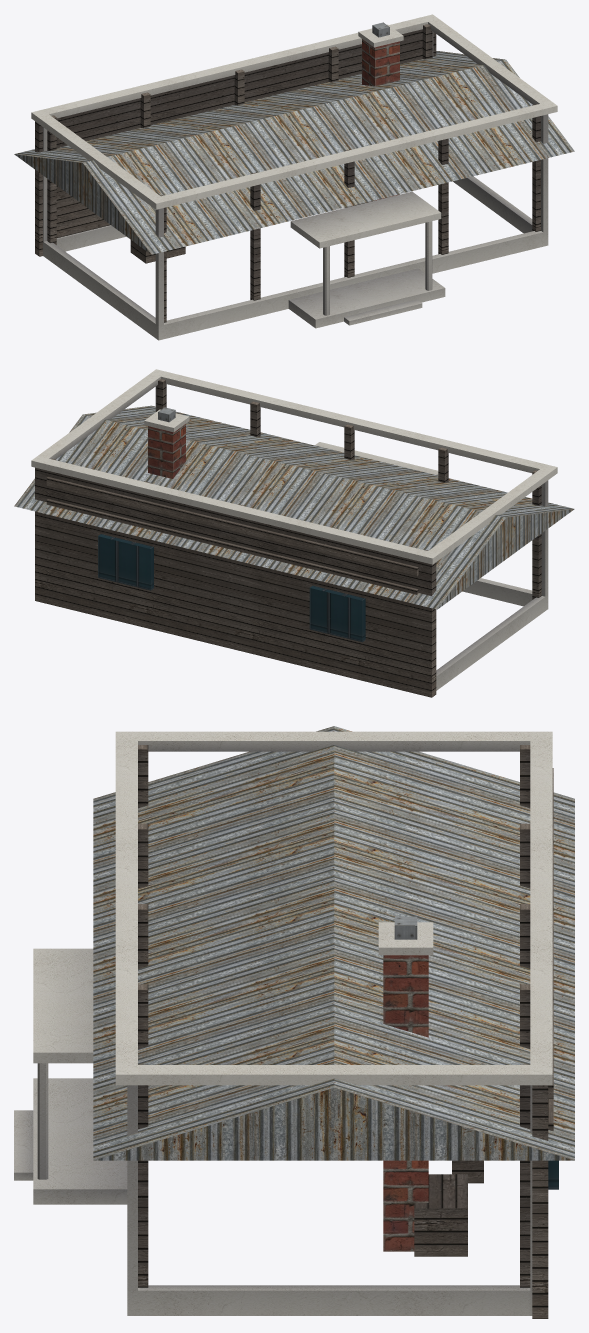
File: windbreak-shed_lod0.gltf
3 views of the same model, one above another, from view 1: azimuth 30°, elevation 25°; view 2: azimuth 150°, elevation 25°; view 3: azimuth 270°, elevation 25° (orthographic). The views are drawn at different scales.
Visible parts, largest first — view 1: windbreak-shed_roof, windbreak-shed__v4_stone_detail, windbreak-shed_walls, windbreak-shed_posts, windbreak-shed__v4_brick_detail, windbreak-shed__hay_bale_a; view 2: windbreak-shed_walls, windbreak-shed_roof, windbreak-shed__v4_stone_detail, windbreak-shed_fen_07-glass-curtain-blue_0, windbreak-shed__slat_b, windbreak-shed__slat_a, windbreak-shed_posts, windbreak-shed__v4_brick_detail; view 3: windbreak-shed_roof, windbreak-shed__v4_stone_detail, windbreak-shed_posts, windbreak-shed__v4_brick_detail, windbreak-shed__hay_bale_b, windbreak-shed_walls.
Part boxes in pixels (x1,y1,x2,y2): windbreak-shed_roof: (14,51,574,254); windbreak-shed__v4_stone_detail: (31,14,557,340); windbreak-shed_walls: (35,29,436,256); windbreak-shed_posts: (47,24,540,322); windbreak-shed__v4_brick_detail: (362,39,399,202); windbreak-shed__hay_bale_a: (130,240,185,263); windbreak-shed_walls: (35,467,436,697); windbreak-shed_roof: (14,405,574,609); windbreak-shed__v4_stone_detail: (31,369,557,690); windbreak-shed_fen_07-glass-curtain-blue_0: (98,534,365,642); windbreak-shed__slat_b: (46,476,418,576); windbreak-shed__slat_a: (46,499,418,594); windbreak-shed_posts: (51,379,541,599); windbreak-shed__v4_brick_detail: (148,424,185,478); windbreak-shed_roof: (93,726,574,1160); windbreak-shed__v4_stone_detail: (14,731,552,1315); windbreak-shed_posts: (138,745,530,1287); windbreak-shed__v4_brick_detail: (383,955,428,1251); windbreak-shed__hay_bale_b: (414,1174,467,1256); windbreak-shed_walls: (532,1085,548,1318).
Size of the model in its own units: 16 by 6.59 by 10.48.
